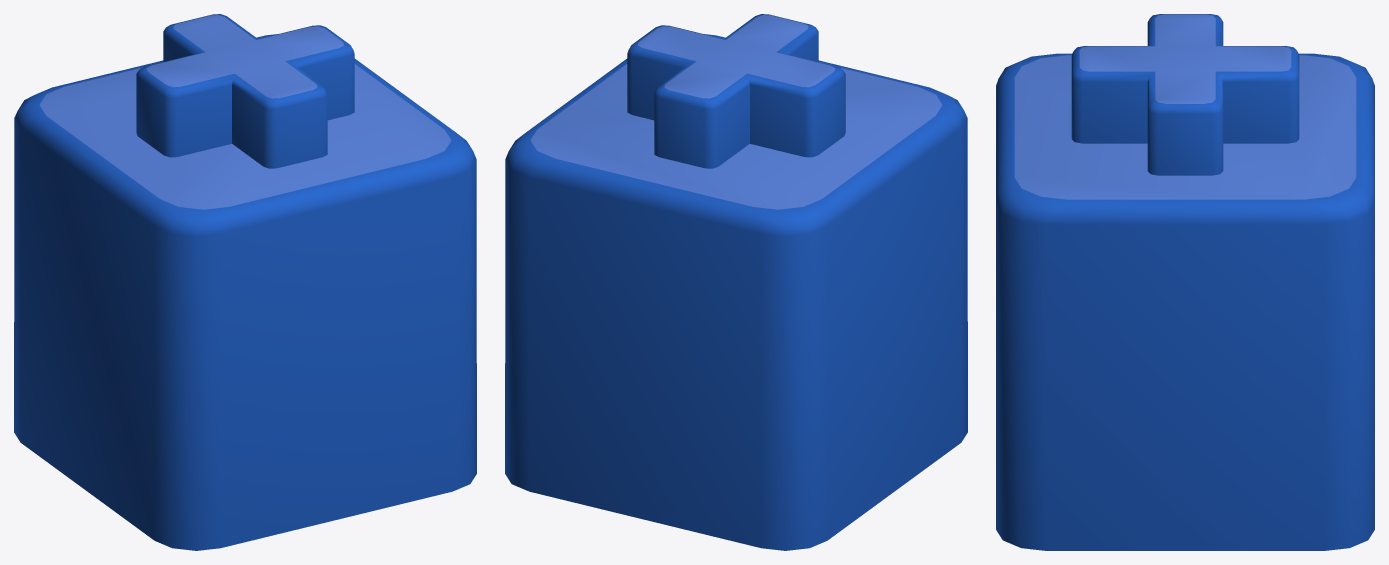
The model's file is block_plus.fbx.
3 renders of one model, left to right at view 1: azimuth 30°, elevation 25°; view 2: azimuth 150°, elevation 25°; view 3: azimuth 270°, elevation 25°, orthographic. The views are drawn at different scales.
Visible parts, largest first — view 1: block_plus; view 2: block_plus; view 3: block_plus.
Boxes of the visible parts, x1,y1,x2,y2 form: block_plus: [14, 14, 476, 550]; block_plus: [505, 14, 967, 550]; block_plus: [996, 14, 1374, 550].
Bounding box in the file's own units: 100 × 100 × 120.
